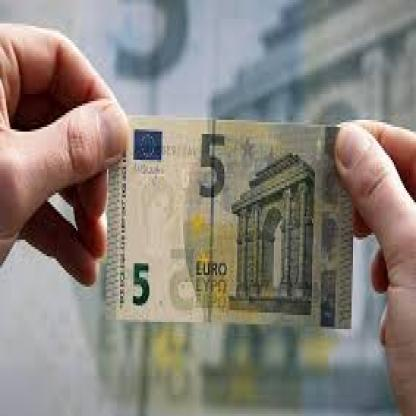billete: (104, 111, 353, 329)
